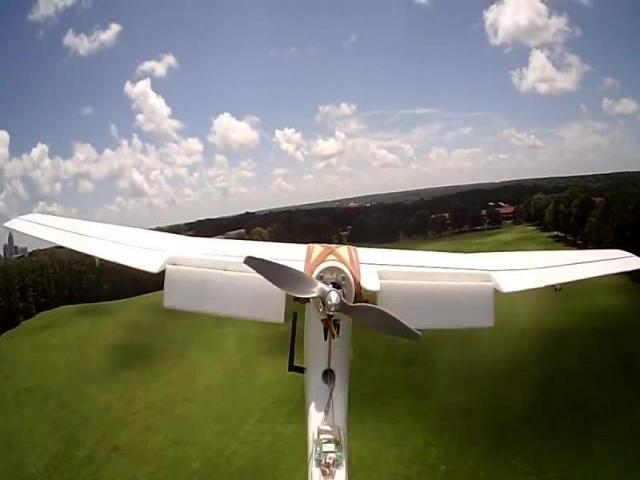hedef: (0, 158, 640, 480)
